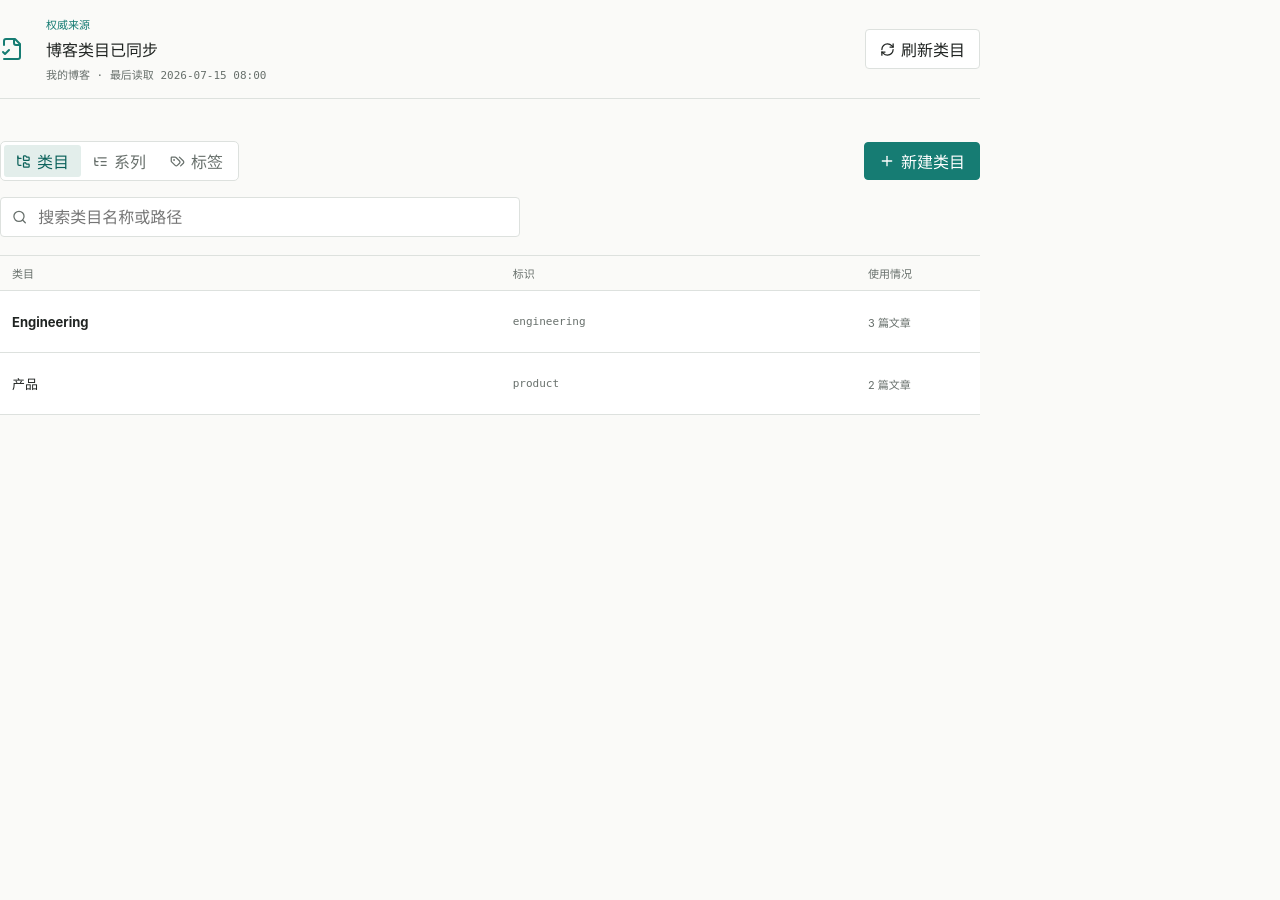
新增类目先预览 Hugo 原生变更再确认应用
The width and height of the screenshot is (1280, 900).
Check: the text "Engineering" is shown, box left=12, top=314, right=88, bottom=330
Click the button "新建类目": (922, 161) left=864, top=142, right=980, bottom=180
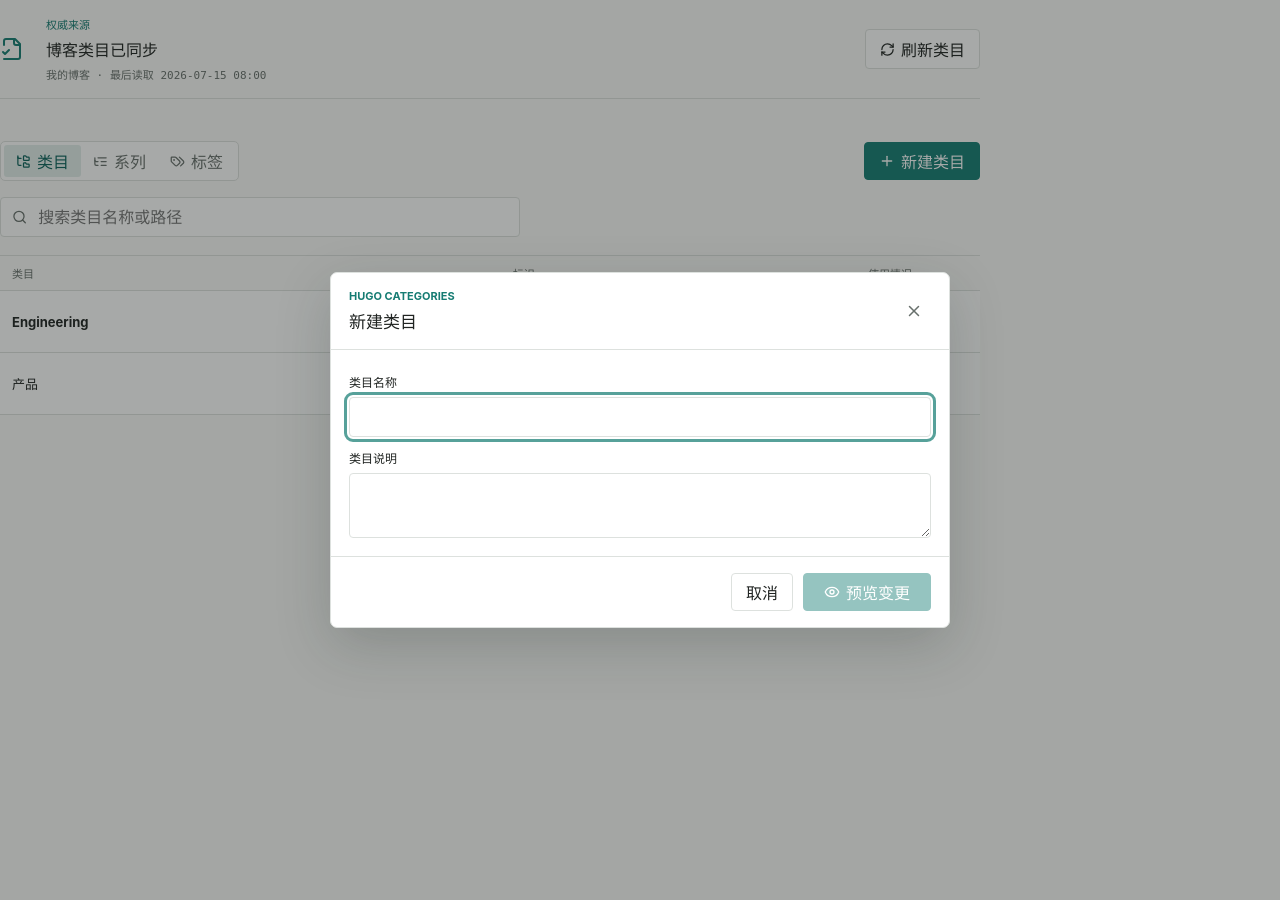
In the field labelled "类目名称": (640, 417) left=349, top=397, right=931, bottom=437, type "AI"
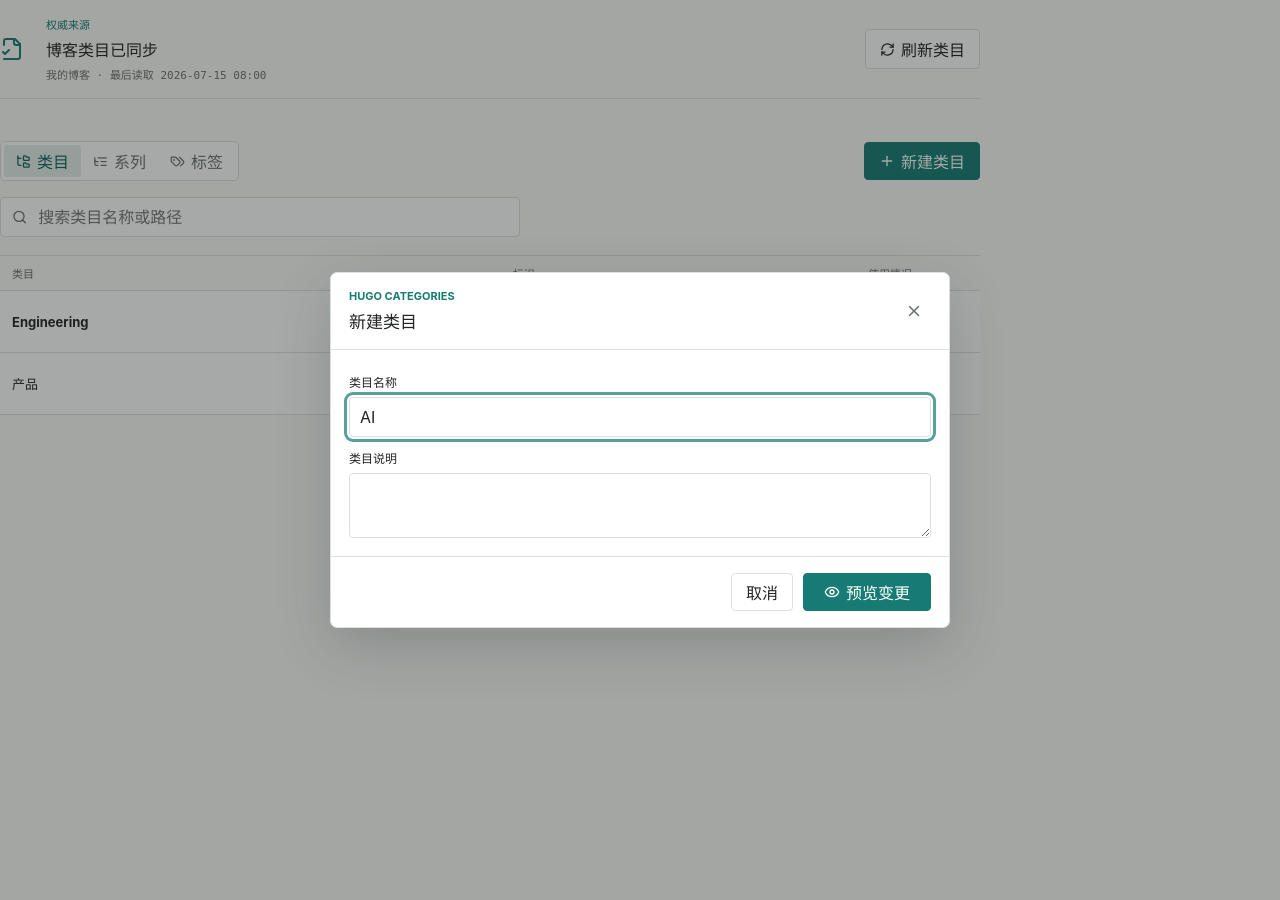
In the text box labelled "类目说明": (640, 506) left=349, top=473, right=931, bottom=538, type "AI 文章"
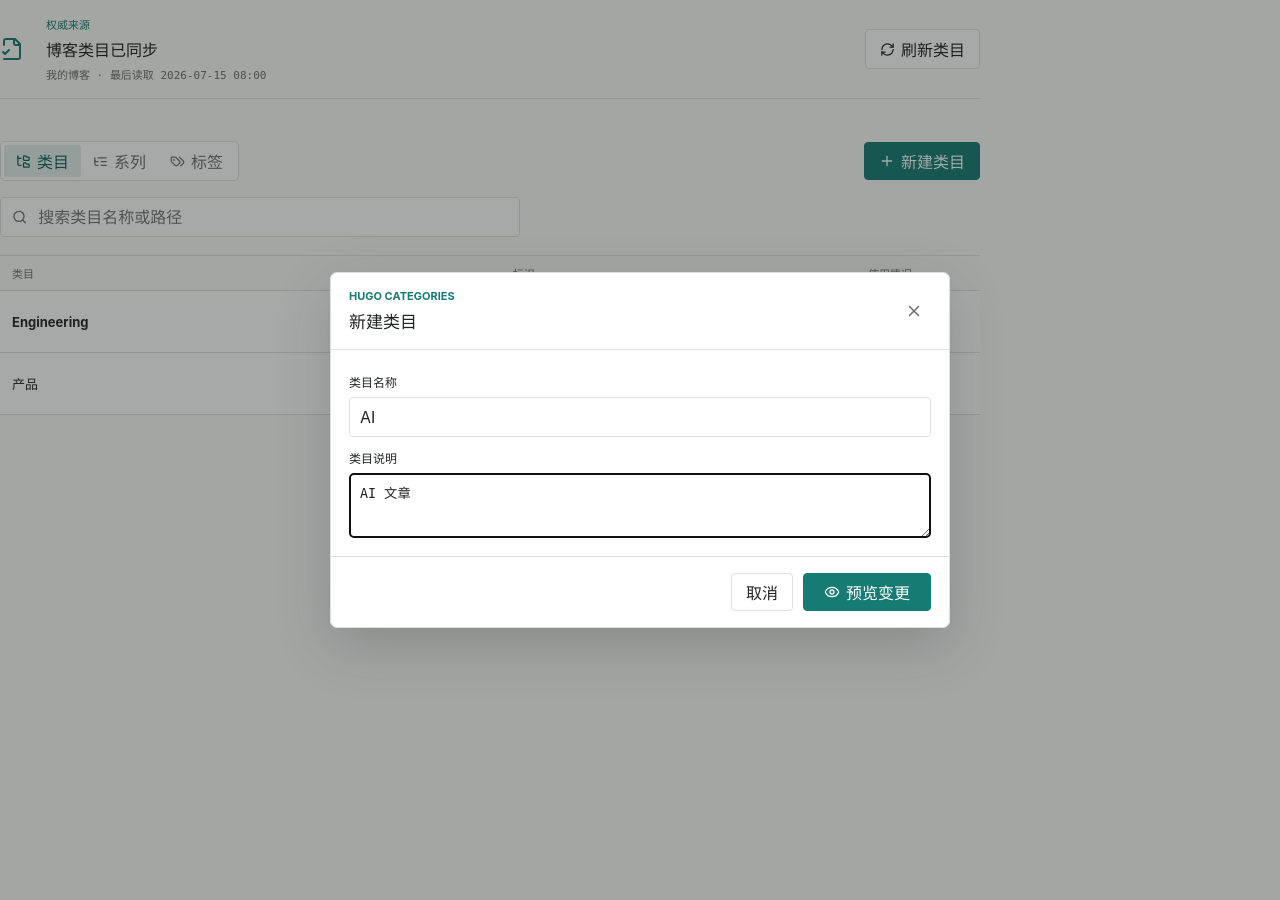
Click the button "预览变更": (867, 592) left=803, top=573, right=931, bottom=611
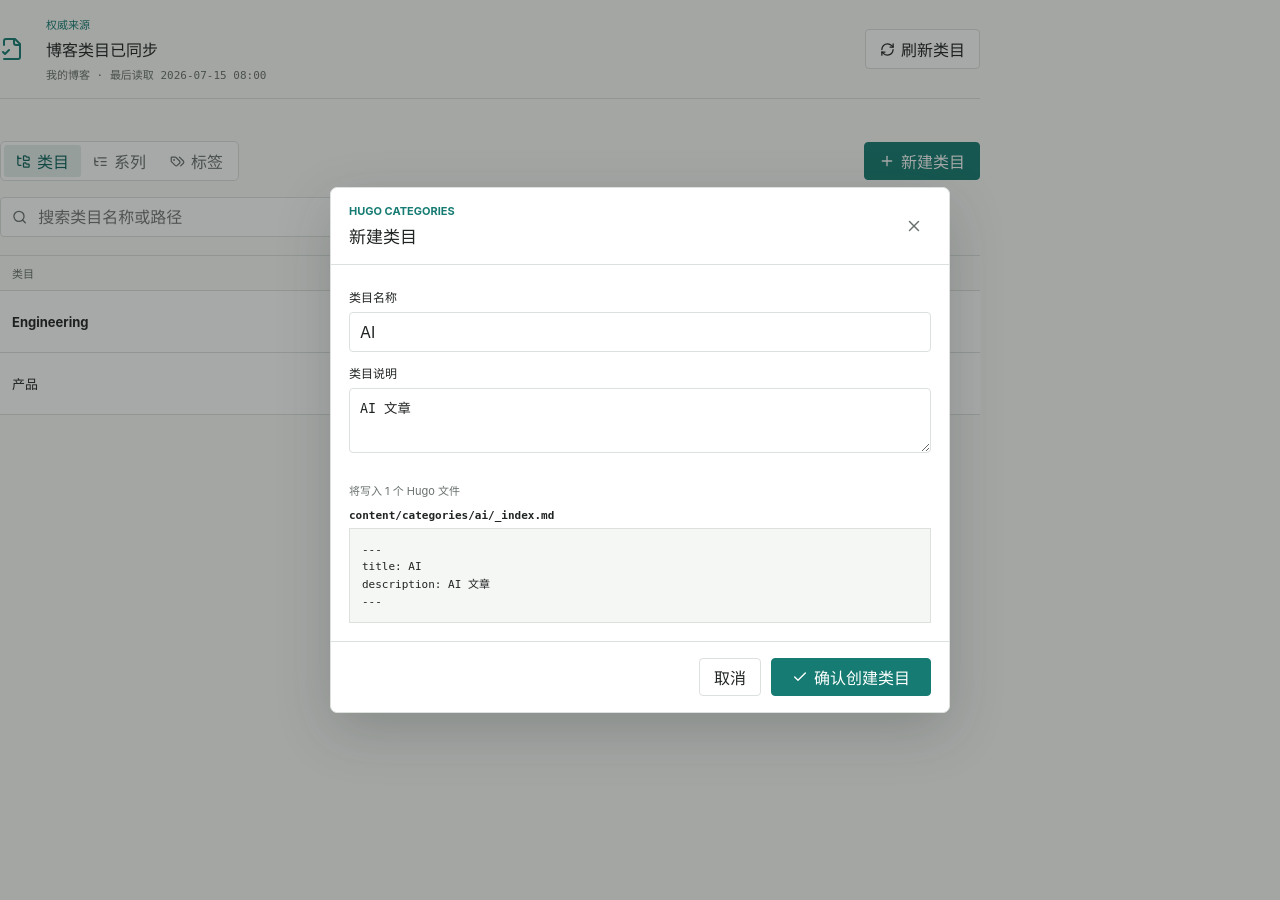
Check: the text "content/categories/ai/_index.md" is shown, box left=349, top=509, right=554, bottom=522
Check: the text "--- title: AI description: AI 文章 ---" is shown, box left=362, top=543, right=490, bottom=608
Click the button "确认创建类目": (851, 677) left=771, top=658, right=931, bottom=696
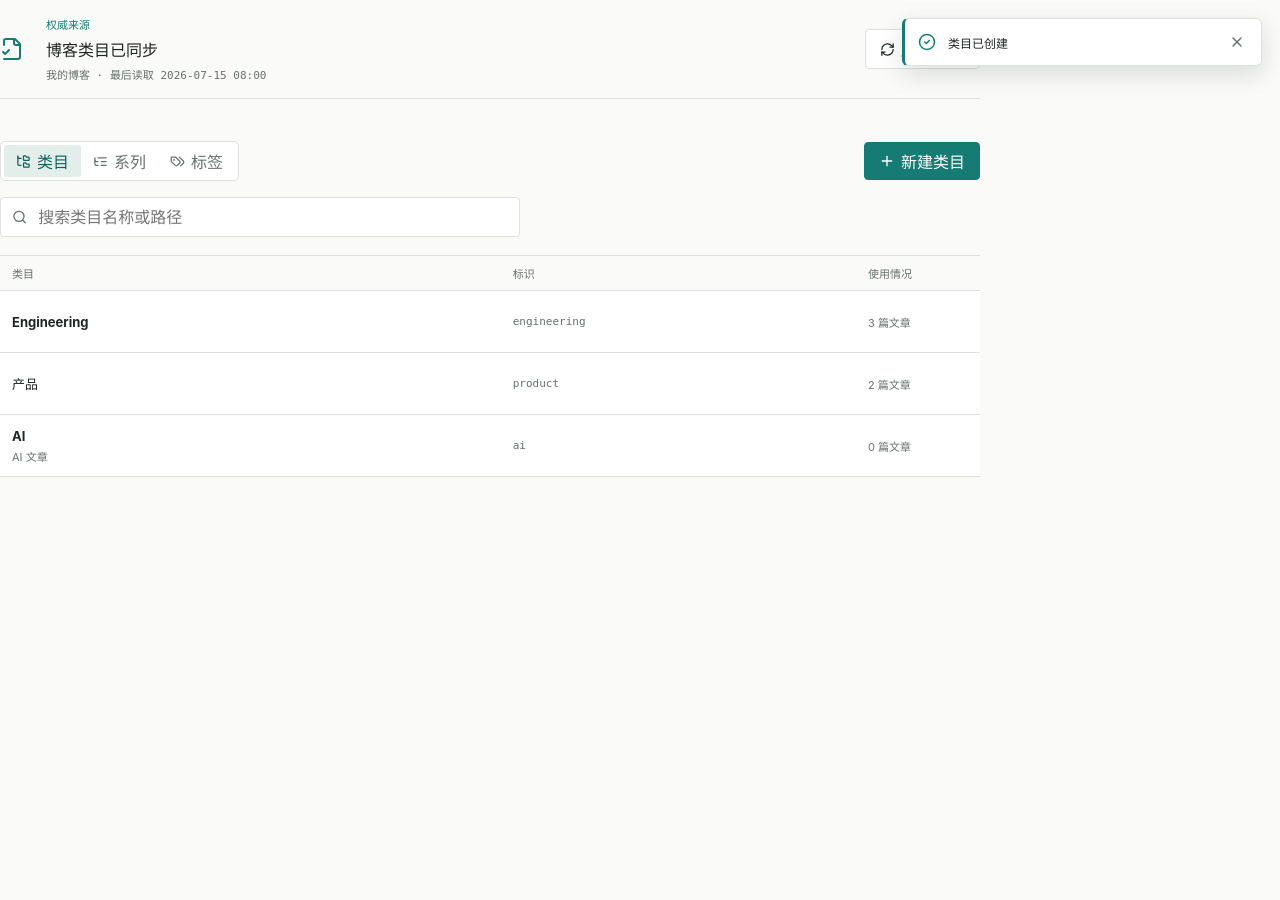
Check: the text "AI" is shown, box left=12, top=428, right=25, bottom=444
Check: the message reads "类目已创建", box left=948, top=36, right=1008, bottom=50
